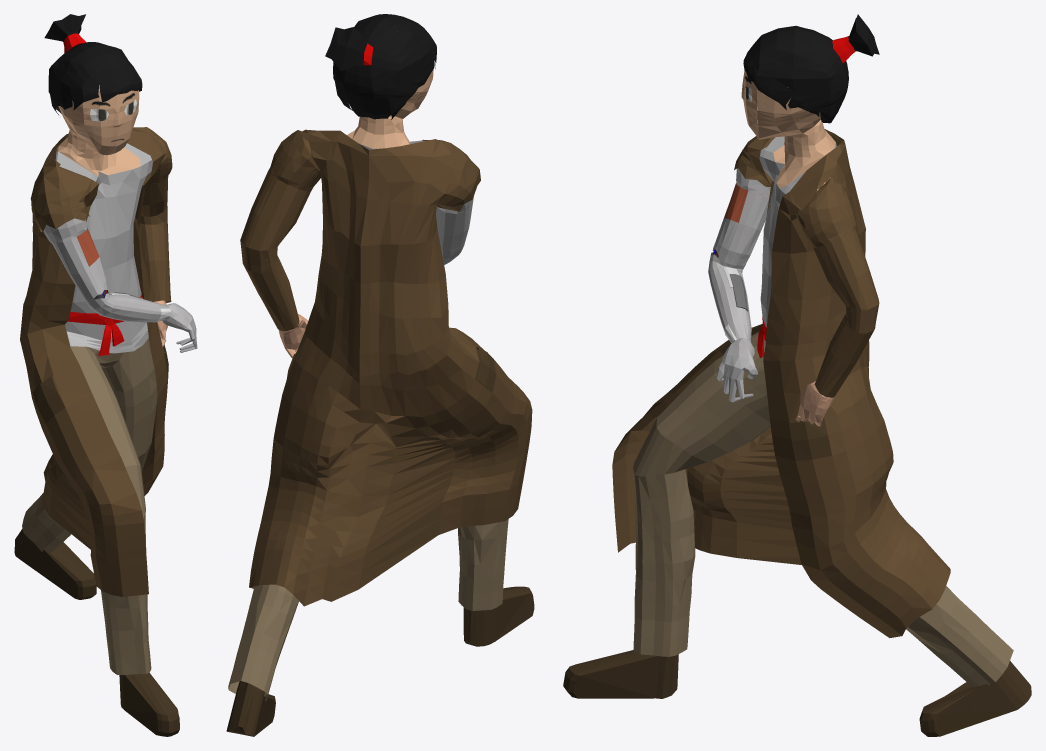
The model's file is Special_Attack_000001.obj.
3 views of the same model, side by side, from view 1: azimuth 30°, elevation 25°; view 2: azimuth 150°, elevation 25°; view 3: azimuth 270°, elevation 25° (orthographic). The views are drawn at different scales.
Visible parts, largest first — view 1: Hair_Cube.004; view 2: Hair_Cube.004; view 3: Hair_Cube.004.
Boxes of the visible parts, x1,y1,x2,y2 form: Hair_Cube.004: (14,14,197,736); Hair_Cube.004: (226,14,534,736); Hair_Cube.004: (563,14,1031,736).
Size of the model in its own units: 1.09 by 3.68 by 2.26.
